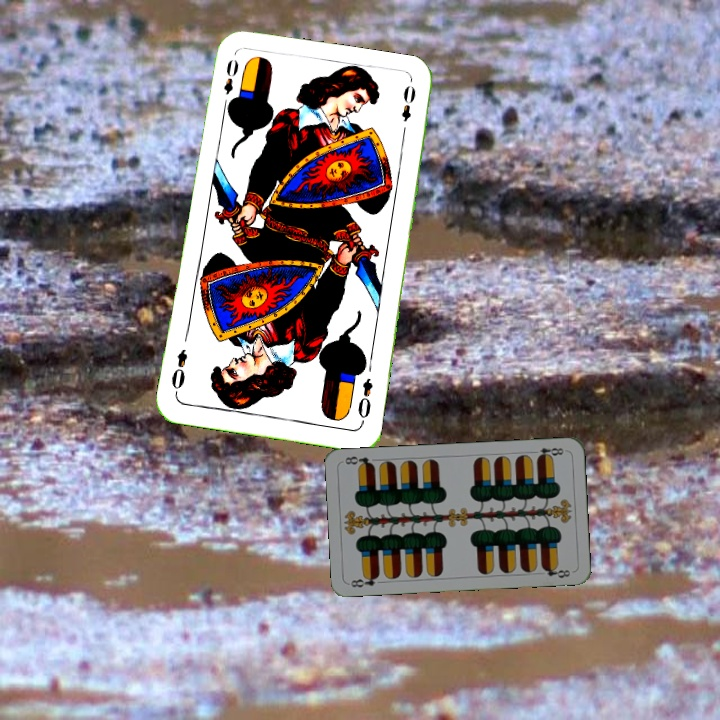E8: (528, 444, 568, 461), (347, 571, 381, 590)
EO: (219, 55, 242, 112), (354, 374, 375, 426)
